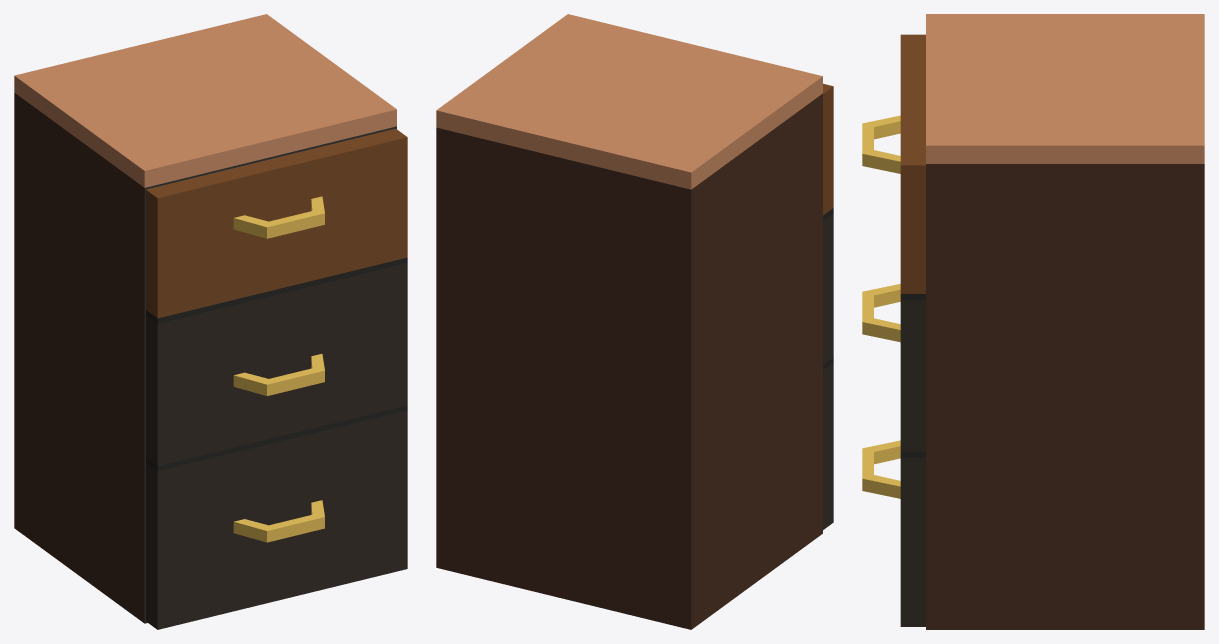
File: Kitchen_Cabinet_2B.fbx
3 renders of one model, left to right at view 1: azimuth 30°, elevation 25°; view 2: azimuth 150°, elevation 25°; view 3: azimuth 270°, elevation 25°, orthographic. The views are drawn at different scales.
Visible parts, largest first — view 1: polySurface1776; view 2: polySurface1776; view 3: polySurface1776.
Boxes of the visible parts, x1,y1,x2,y2 form: polySurface1776: [14, 14, 407, 629]; polySurface1776: [436, 14, 833, 629]; polySurface1776: [862, 14, 1204, 629].
Bounding box in the file's own units: 0.7792 × 1.34 × 0.8565.
1 material, 1 textured.
